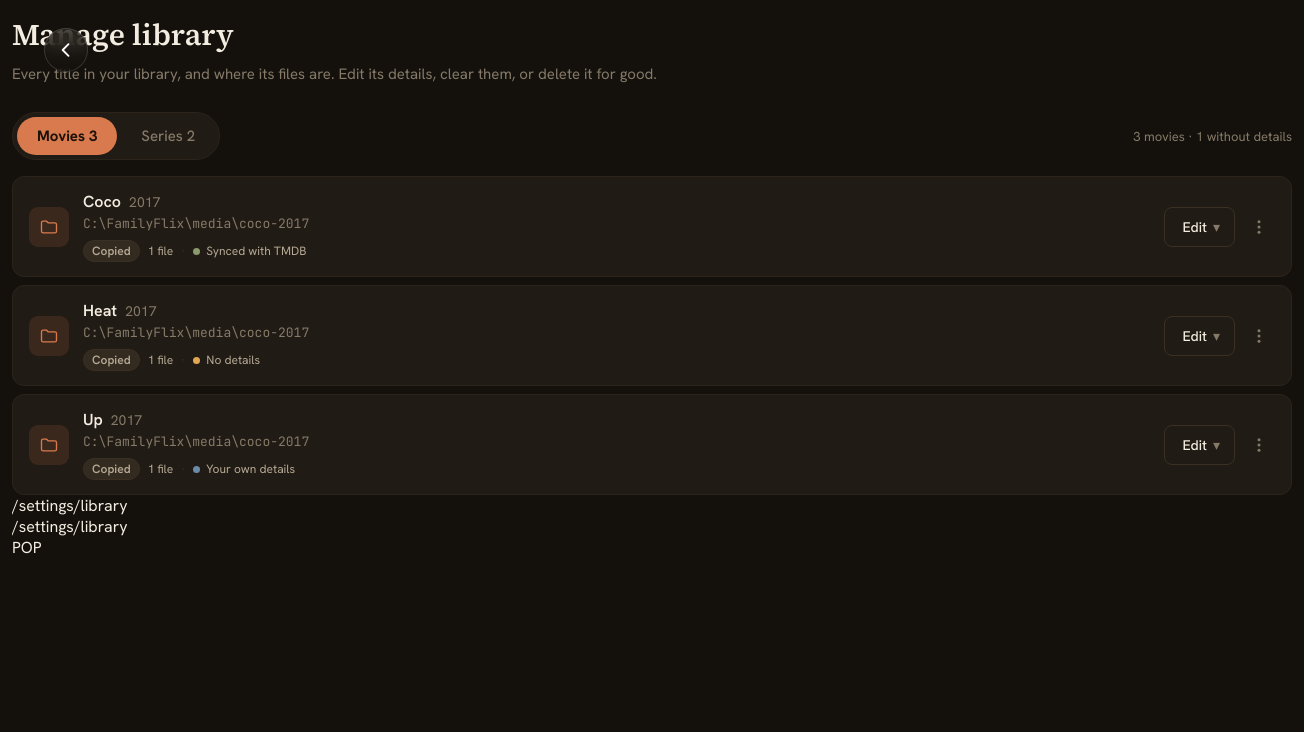
Test: ManageLibrary — Back › lands on /settings when there is nothing behind the page
This screenshot has width=1304, height=732.
Expected: the button "Movies 3" is shown, [17,117,117,155]
Click the button named "Back". click: (66, 50)
box: [44,28,88,72]
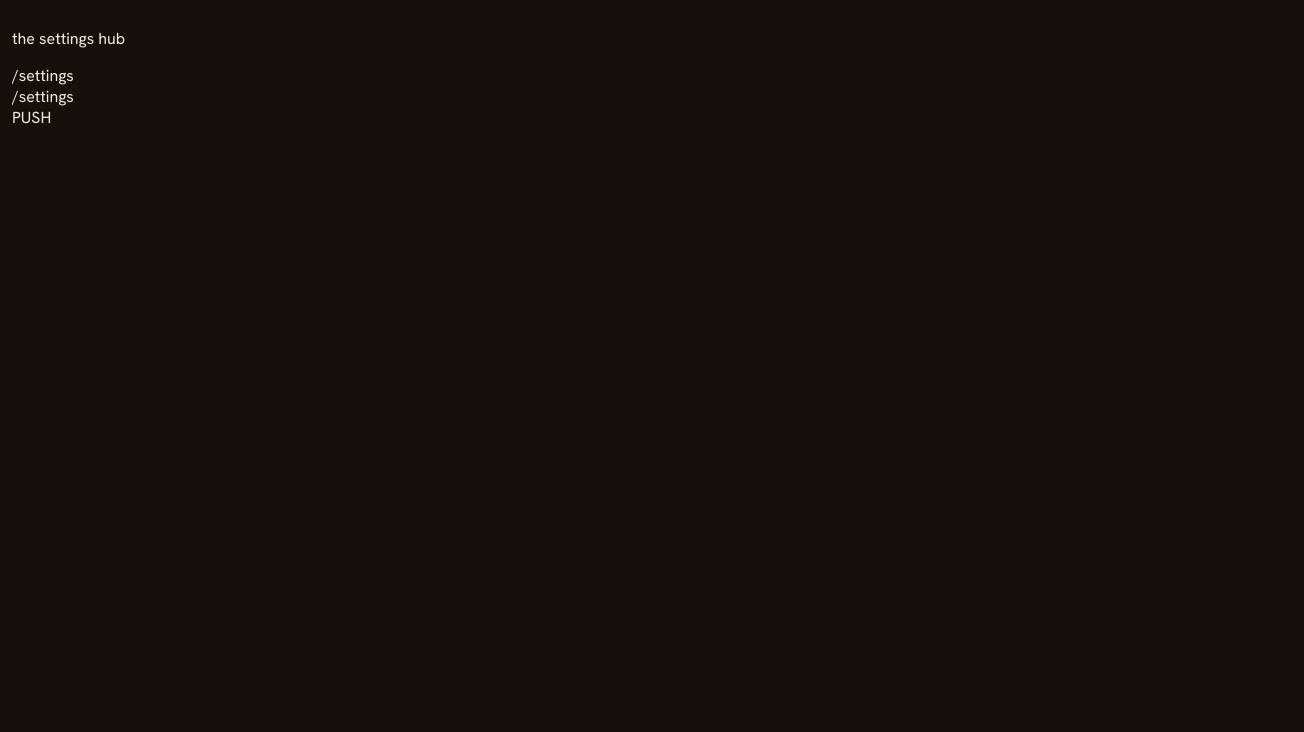
Now the text with test id "pathname" reads "/settings", box [12,65,74,86]
Now the text with test id "navigationType" reads "PUSH", box [12,107,51,128]
Now the text "the settings hub" is shown, box [12,28,125,49]
